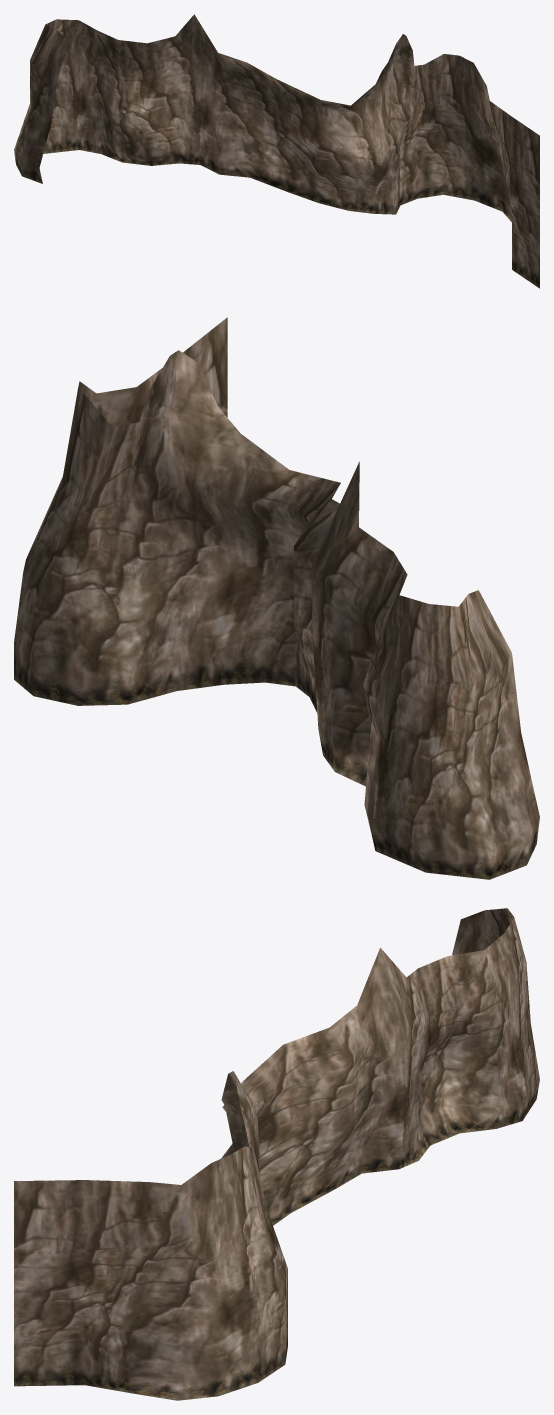
File: OVERHILL_A_01_LINE17.fbx
The picture shows the model from 3 angles, top to bottom: view 1: azimuth 30°, elevation 25°; view 2: azimuth 150°, elevation 25°; view 3: azimuth 270°, elevation 25°; orthographic projection. The views are drawn at different scales.
Parts seen in each view (by area): view 1: OVERHILL_A_01_LINE17; view 2: OVERHILL_A_01_LINE17; view 3: OVERHILL_A_01_LINE17.
Boxes of the visible parts, x1=… form: OVERHILL_A_01_LINE17: x1=14, y1=14, x2=539, y2=288; OVERHILL_A_01_LINE17: x1=14, y1=317, x2=539, y2=879; OVERHILL_A_01_LINE17: x1=14, y1=908, x2=539, y2=1400.
Bounding box in the file's own units: 169868 × 96081 × 151537.
2 materials, 2 textured.
